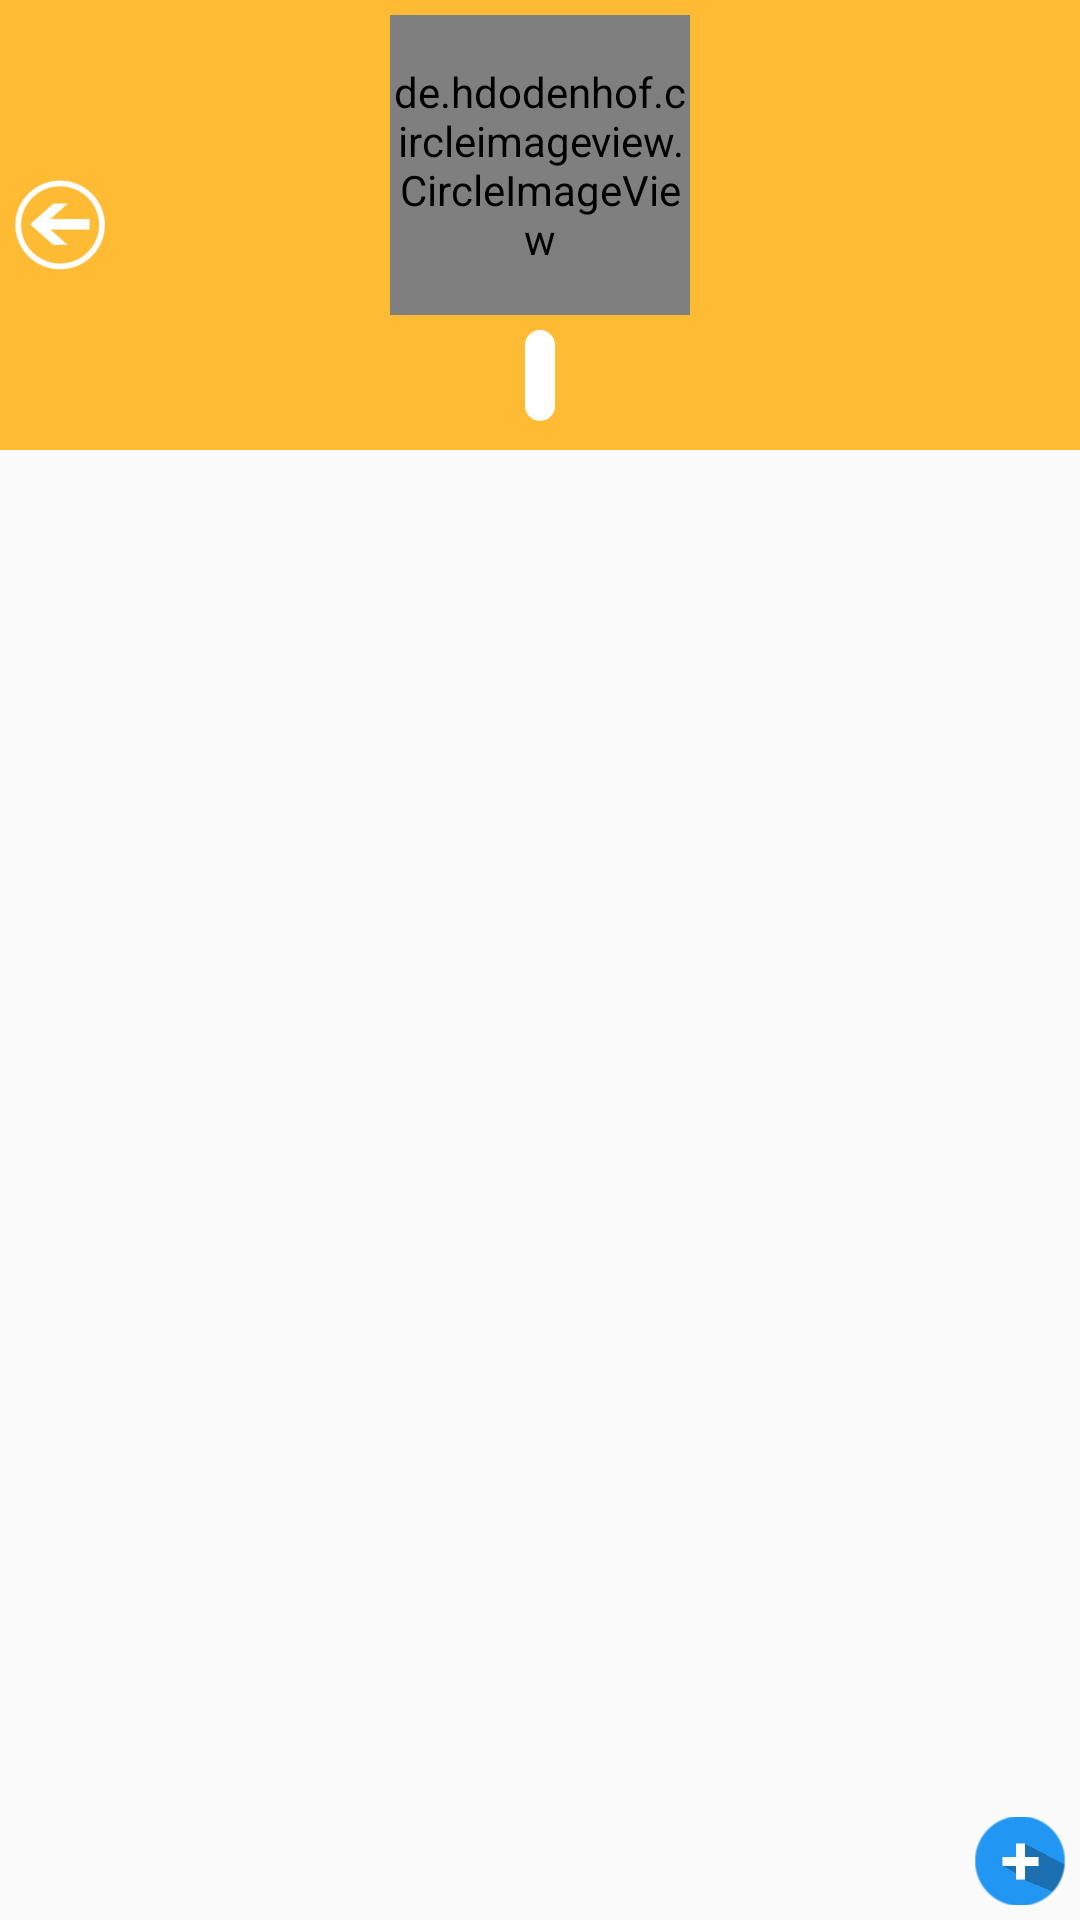

Icons on this 1080 × 1920 Android screen, each with the point to tap as (x=x, y=y):
add: (x=1020, y=1861)
back: (x=60, y=225)
